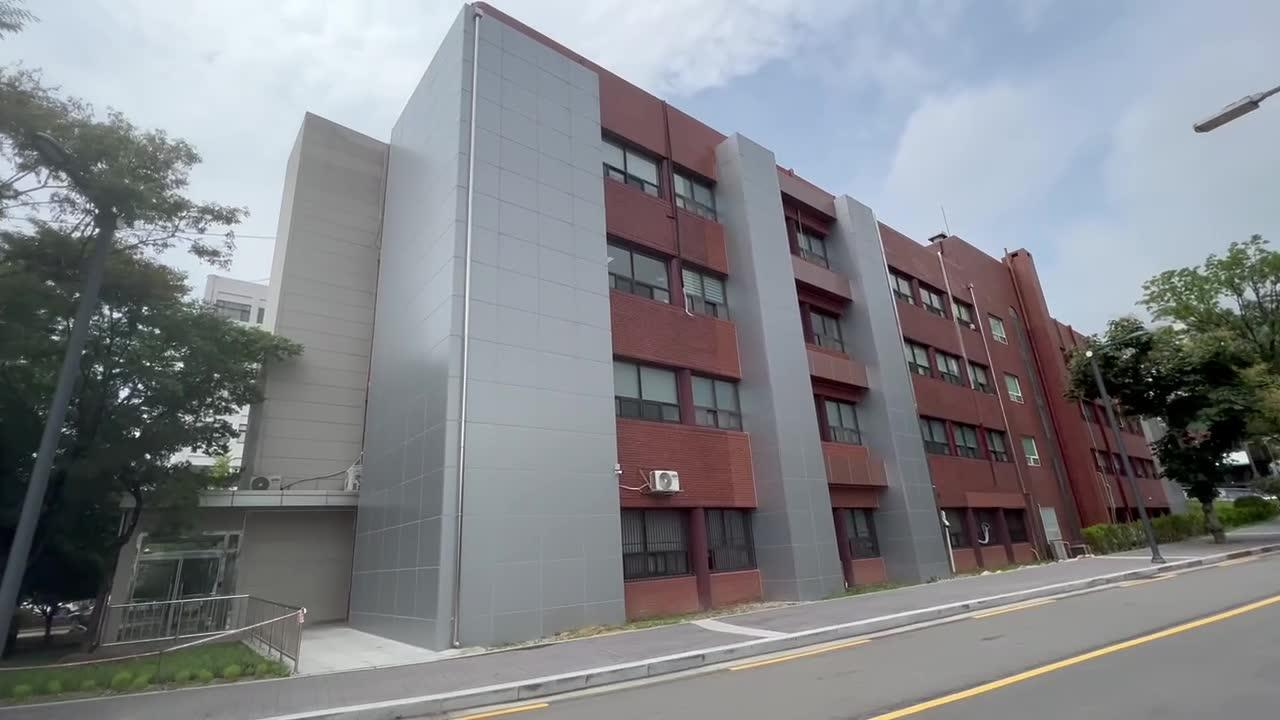building: (397, 83, 1079, 567)
